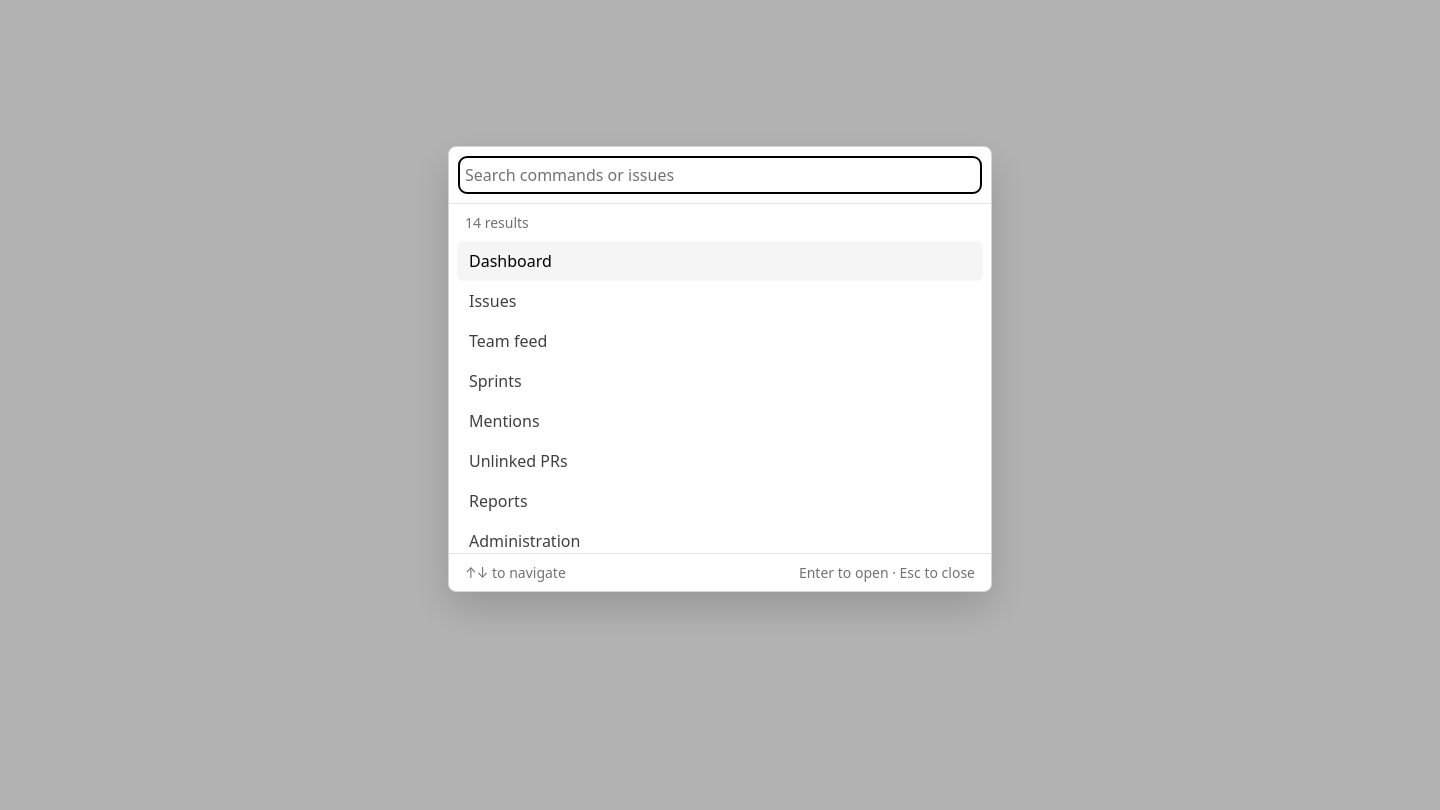
Test: CommandPalette › searches issue titles after a short debounce
This screenshot has width=1440, height=810.
Type "login" into the dropdown with test id "command-palette-input" at (720, 175), box [461, 159, 979, 191]
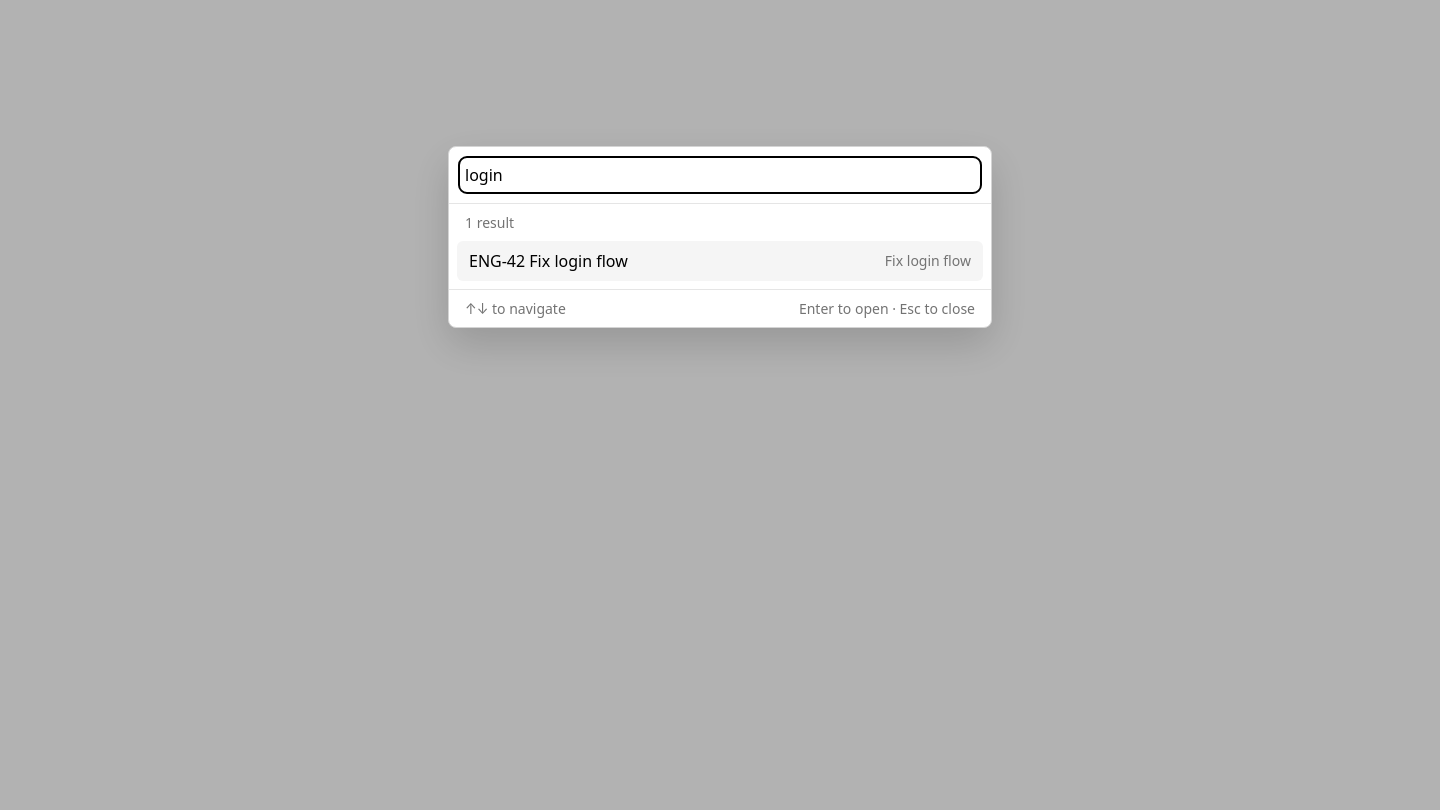
Result: the option "ENG-42 Fix login flow Fix login flow" is shown at [457, 241, 983, 281]
